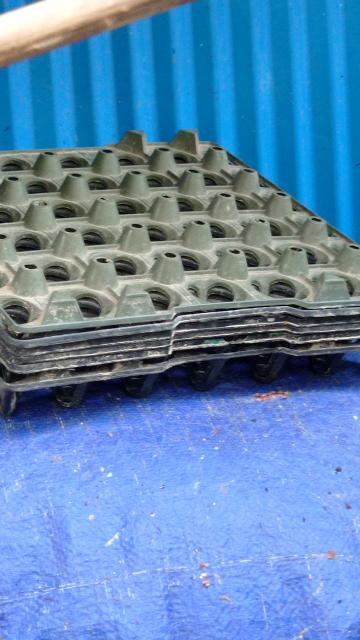hardplastic: (3, 142, 360, 383)
